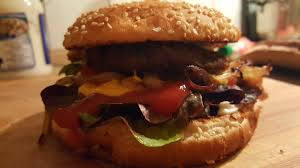hamburger: (48, 1, 270, 164)
